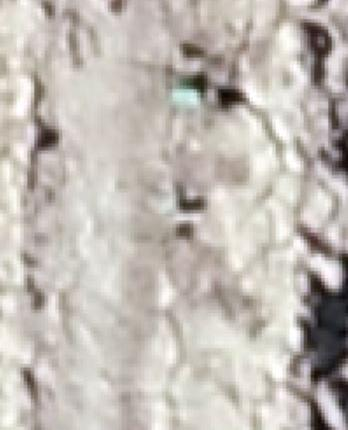cotton: (172, 79, 197, 103)
